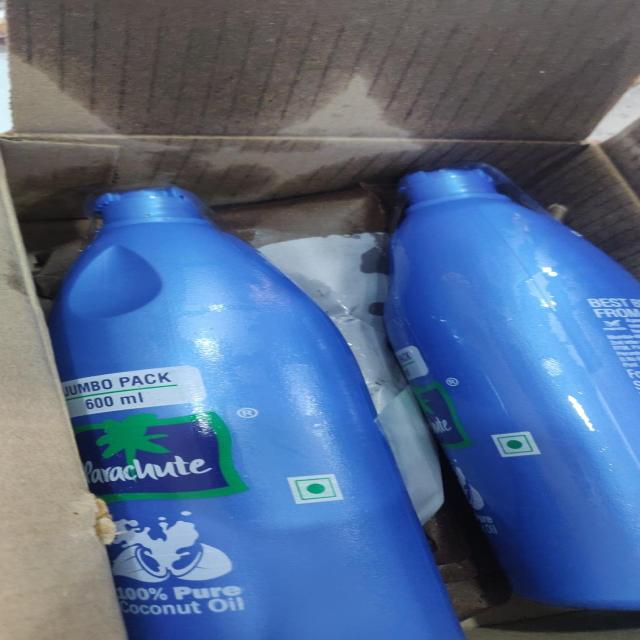parachute_oil: (51, 160, 369, 640)
